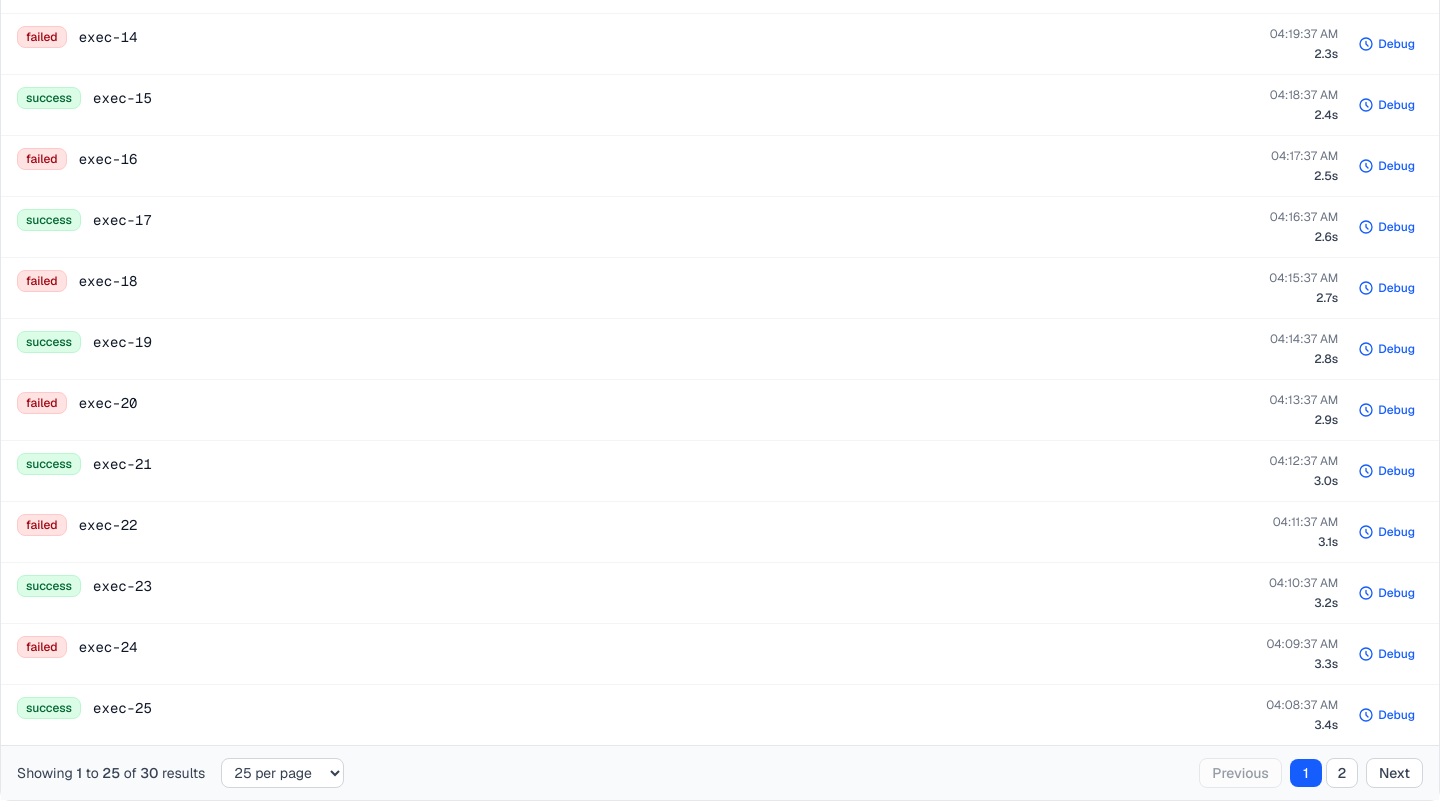
Test: ExecutionHistoryPanel › Pagination › Next button is disabled on last page
The width and height of the screenshot is (1440, 801).
(page scrolled)
Select "10 per page" in the dropdown. click: point(283, 773)
box: [221,758,344,788]
(page scrolled)
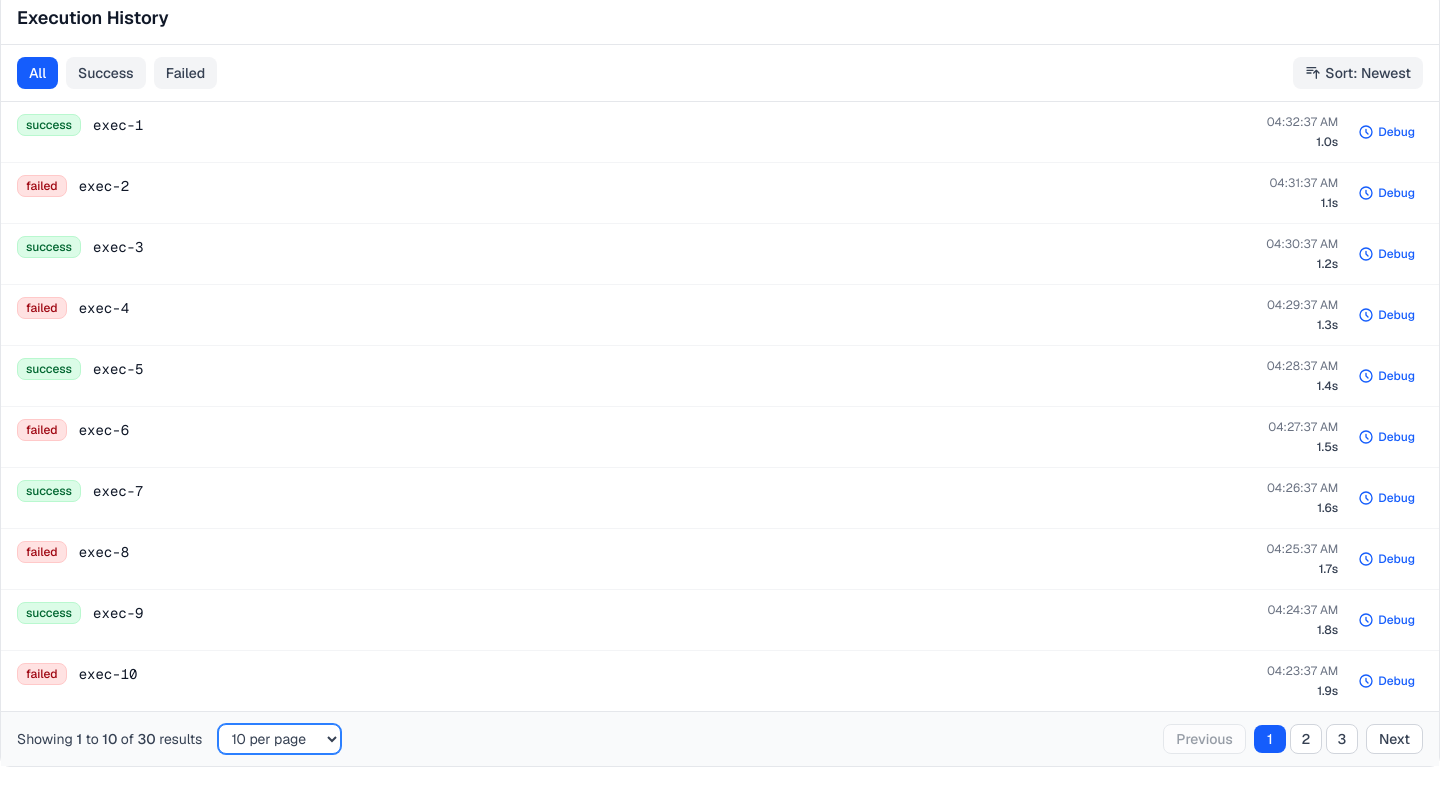
Note: Navigate to last page (page 3 with 10 per page for 30 items)
Click the button "Next". click: point(1394, 739)
box: [1366,724,1423,754]
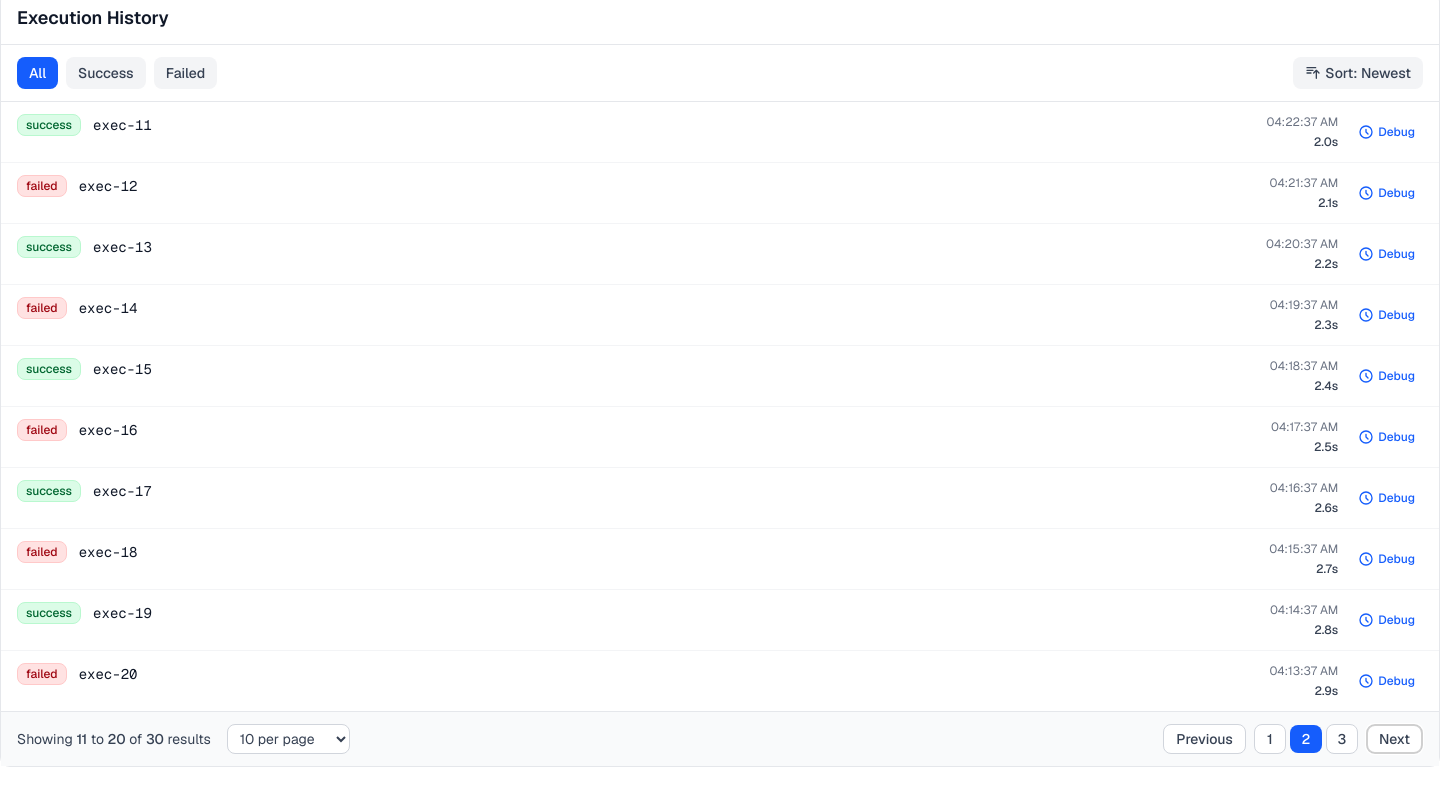
Now the text "exec-11" is shown, box [93,115,152,135]
Click the button "Next". click: point(1394, 739)
box: [1366,724,1423,754]
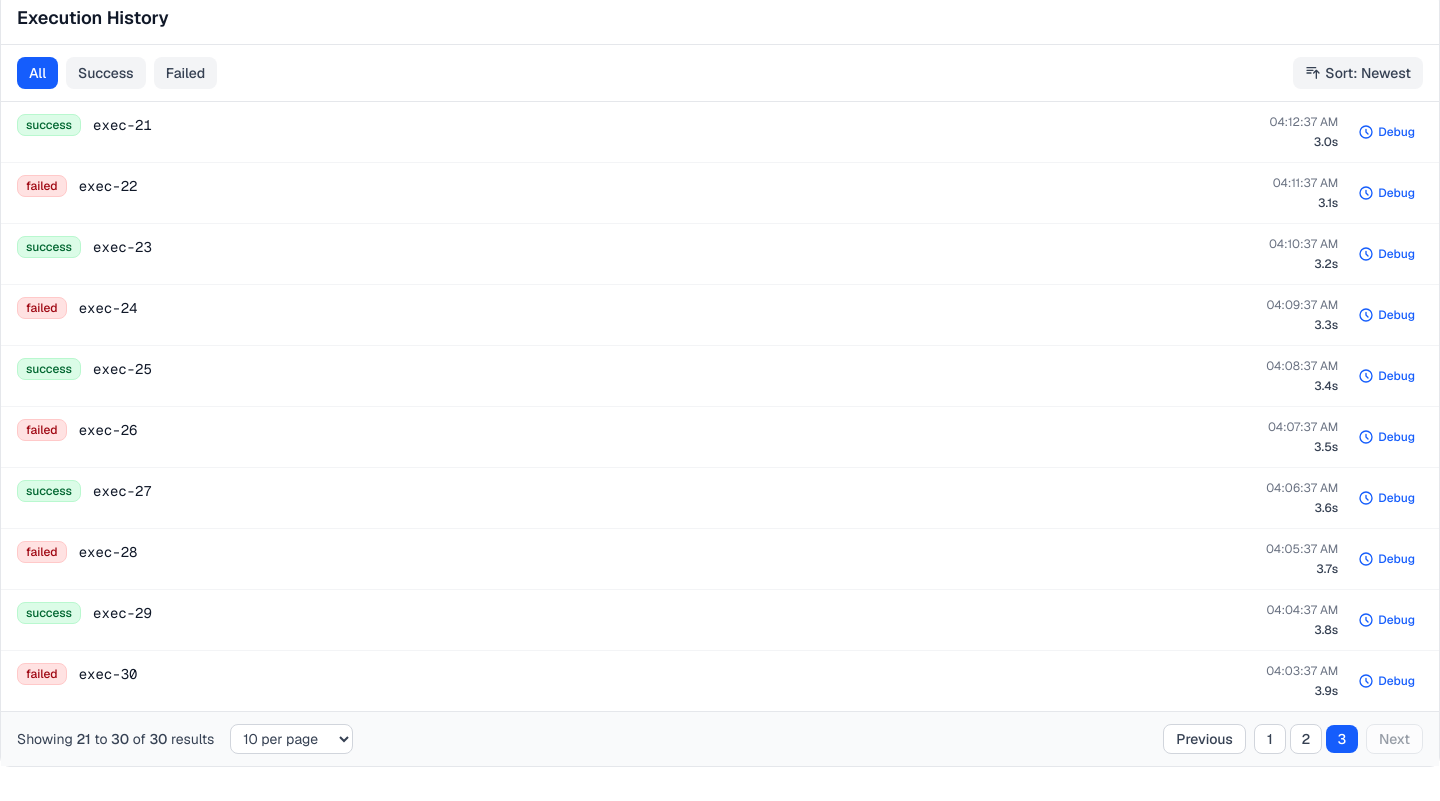
Now the button "Next" is disabled, box [1366,724,1423,754]
